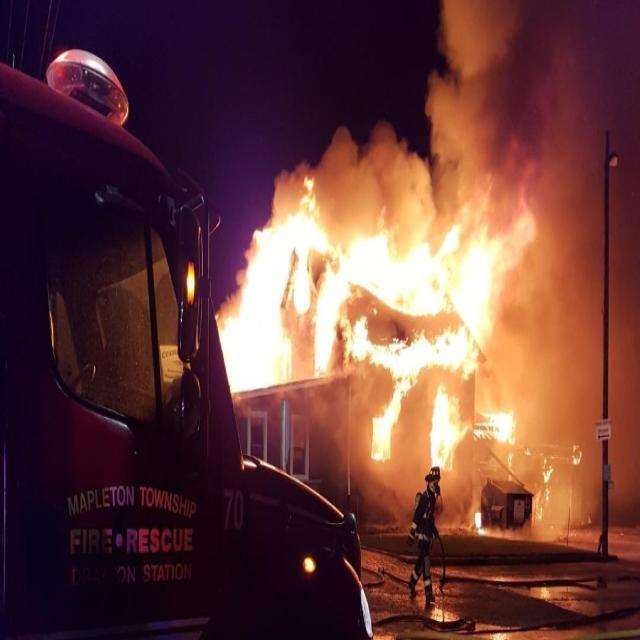Fire: (321, 222, 518, 376), (215, 177, 321, 395), (372, 376, 418, 460), (431, 383, 470, 468), (474, 411, 516, 444), (538, 456, 554, 520), (572, 444, 582, 466), (474, 510, 482, 527), (507, 452, 513, 468)
Smoke: (437, 0, 640, 172), (576, 171, 640, 522), (518, 176, 577, 436), (320, 126, 434, 235)
